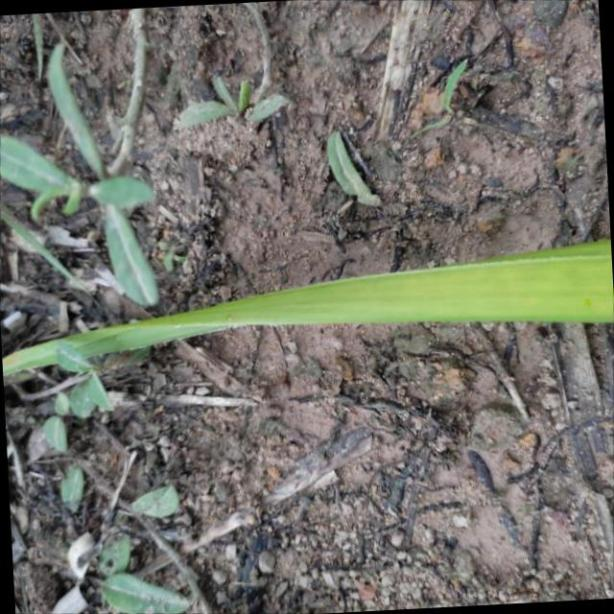nitrogen: (0, 236, 614, 383)
